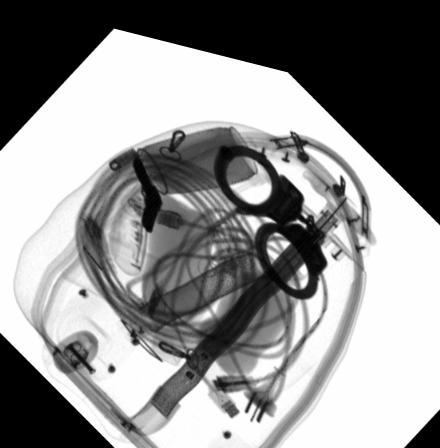Gun: (132, 149, 162, 227)
HandCuffs: (212, 133, 331, 285)
